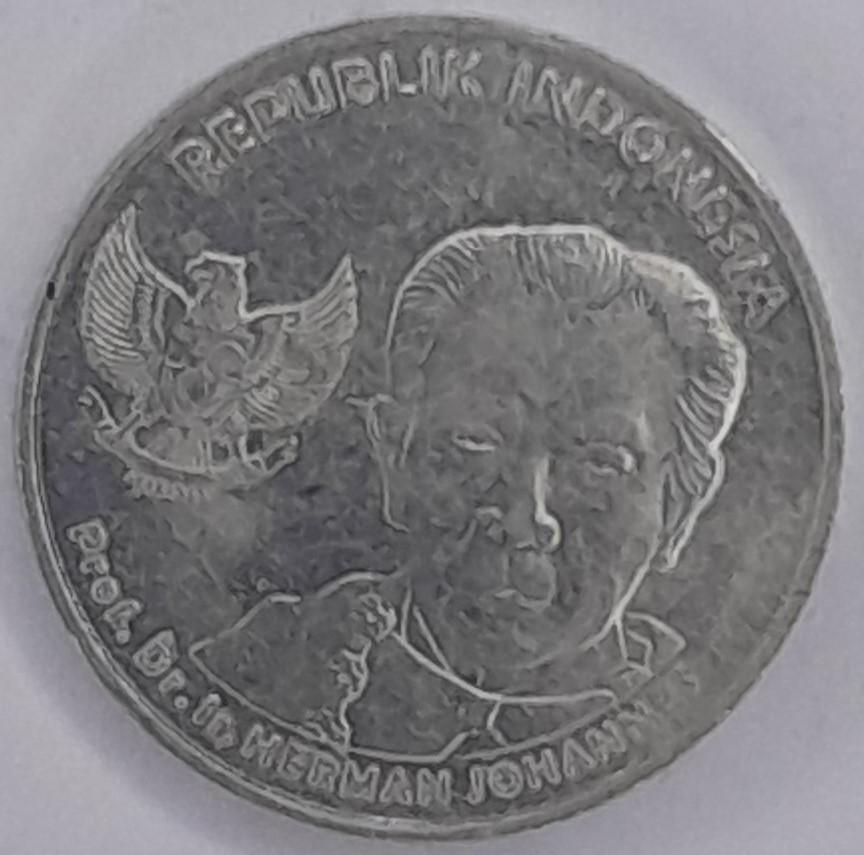coin_100_e2016: (9, 9, 849, 843)
